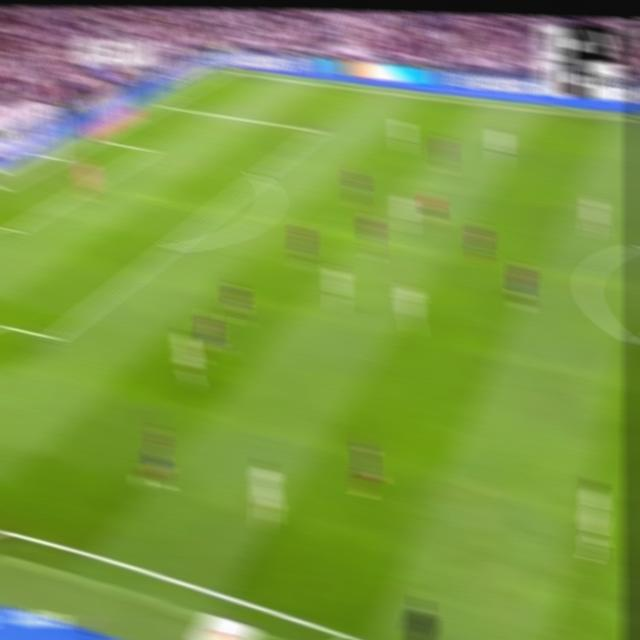bigarea_bottom_inner: (43, 324, 63, 349)
bigarea_top_inner: (308, 121, 324, 138)
bigarea_top_outter: (153, 97, 171, 111)
bottom_arc_area_intersection: (160, 236, 179, 256)
corner: (217, 65, 234, 77)
smallarea_bottom_inner: (5, 220, 21, 240)
smallarea_top_inner: (143, 143, 157, 156)
top_arc_area_intersection: (250, 167, 267, 184)
